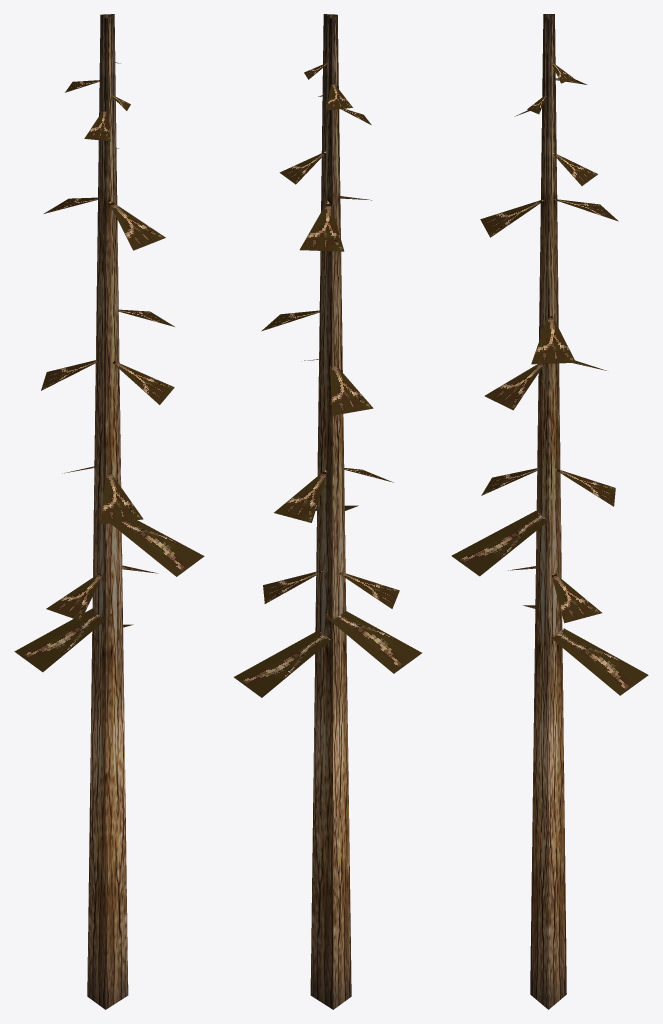
The model's file is pine_dead_burning_base.glb.
The picture shows the model from 3 angles, left to right: view 1: azimuth 30°, elevation 25°; view 2: azimuth 150°, elevation 25°; view 3: azimuth 270°, elevation 25°; orthographic projection.
Visible parts, largest first — view 1: MeshRoot; view 2: MeshRoot; view 3: MeshRoot.
Part boxes in pixels (bbox=[...]): MeshRoot: bbox=[14, 14, 204, 1009]; MeshRoot: bbox=[234, 14, 421, 1009]; MeshRoot: bbox=[451, 14, 648, 1009].
Bounding box in the file's own units: 1.44 × 9.63 × 1.75.
2 materials, 2 textured.
